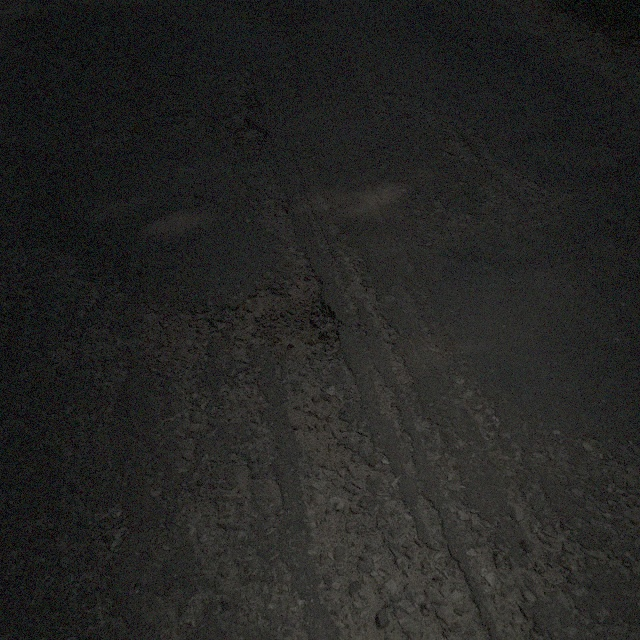pothole: (228, 279, 343, 356), (230, 116, 268, 150)
